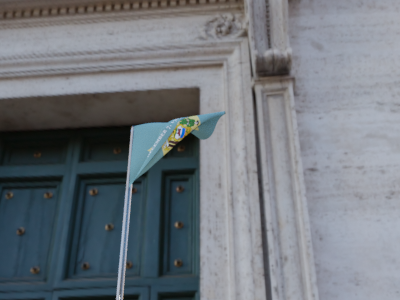Delaware flag: (129, 110, 226, 183)
